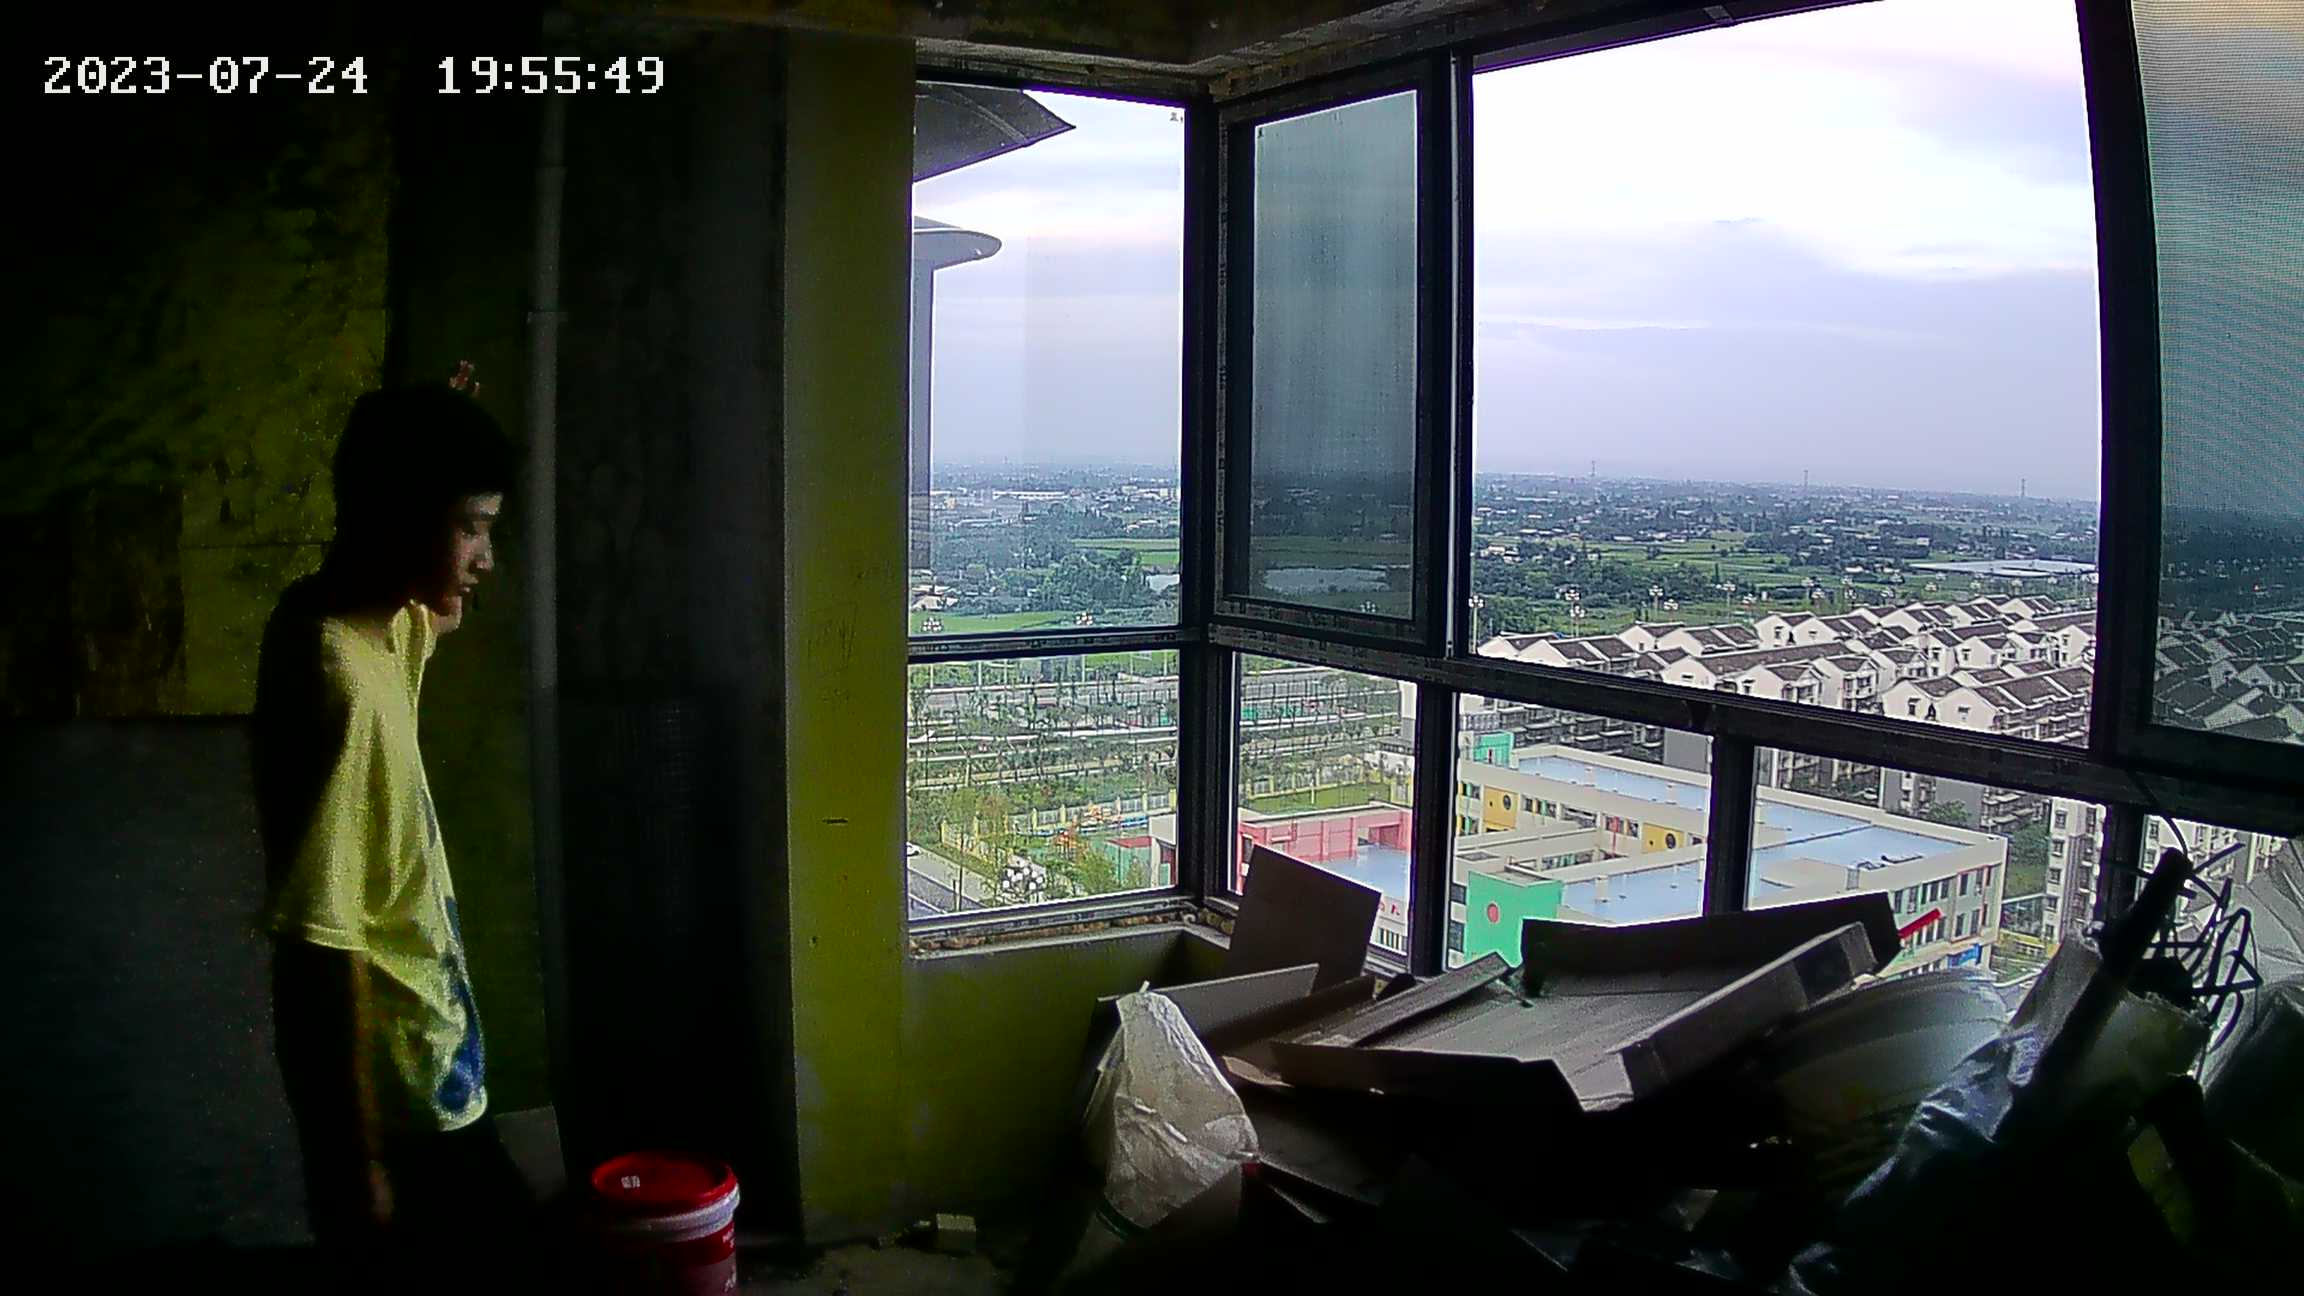people: (249, 387, 561, 1286)
window: (901, 54, 2304, 1027)
